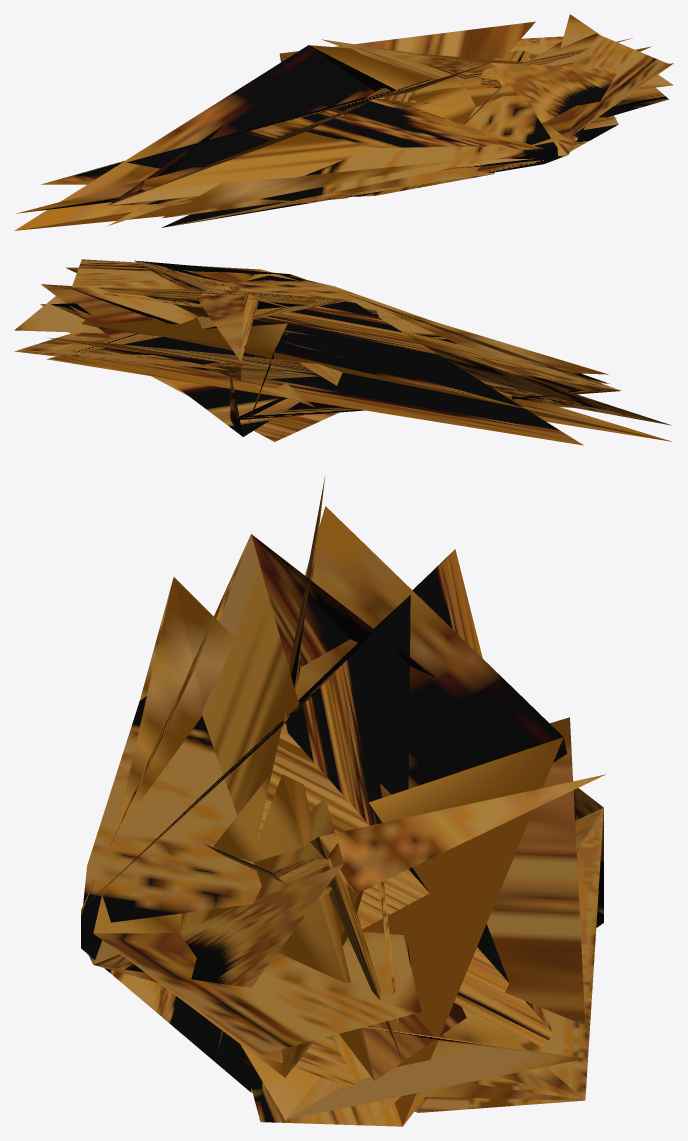
File: ripper.gltf
3 views of the same model, one above another, from view 1: azimuth 30°, elevation 25°; view 2: azimuth 150°, elevation 25°; view 3: azimuth 270°, elevation 25° (orthographic). The views are drawn at different scales.
Visible parts, largest first — view 1: ripper; view 2: ripper; view 3: ripper.
Boxes of the visible parts, x1,y1,x2,y2 form: ripper: (14,14,673,230); ripper: (14,259,672,445); ripper: (81,476,605,1126).
Size of the model in its own units: 1.05 by 0.1482 by 0.3847.
1 material, 1 textured.
